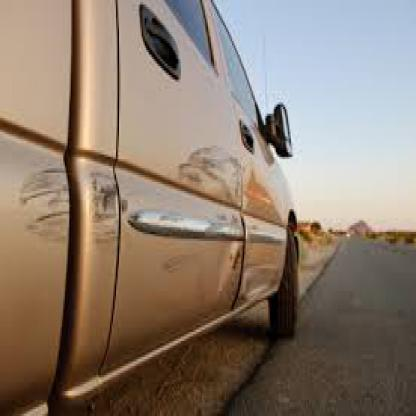dent: (243, 260, 279, 299)
